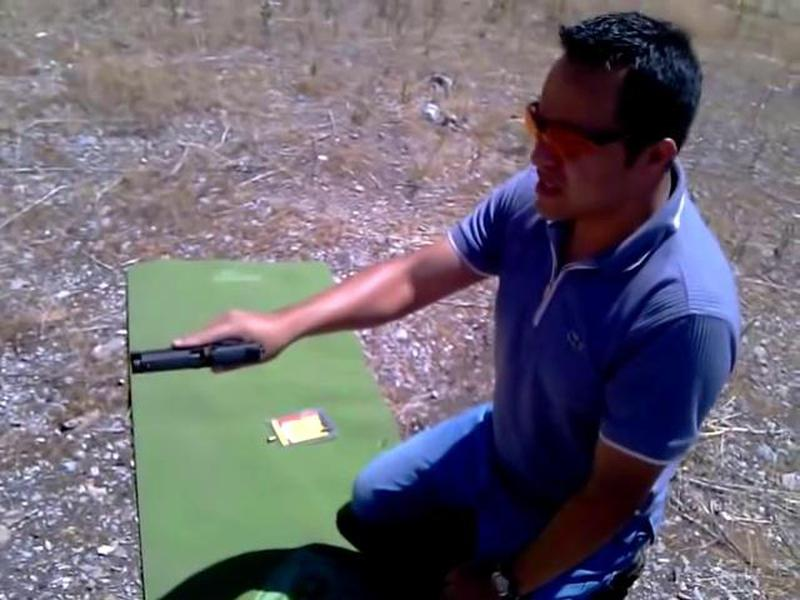Pistola: (126, 312, 273, 398)
